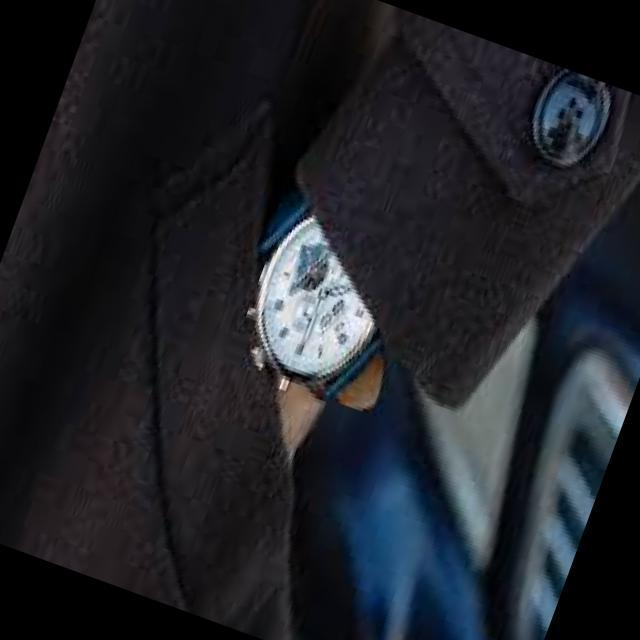Watch: (246, 180, 390, 399)
